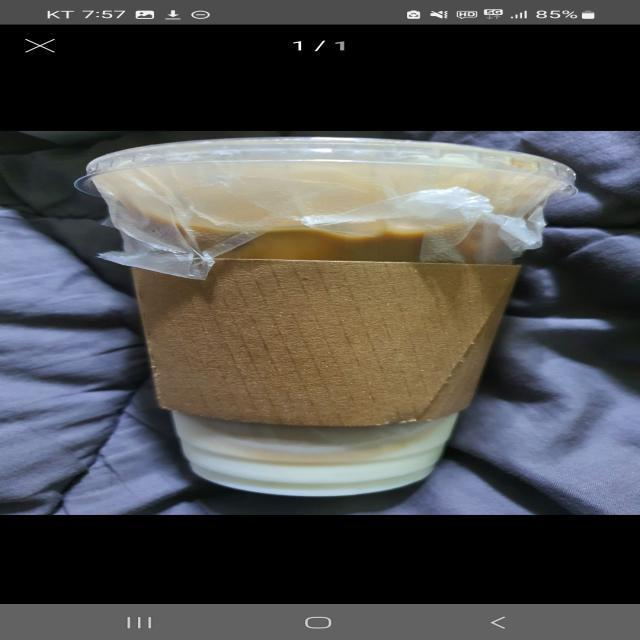cup: (72, 133, 578, 523)
